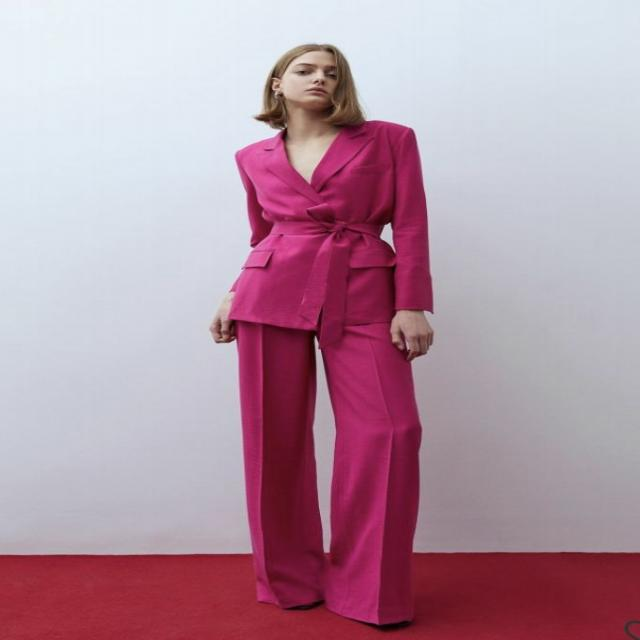female-dress: (194, 121, 481, 624)
